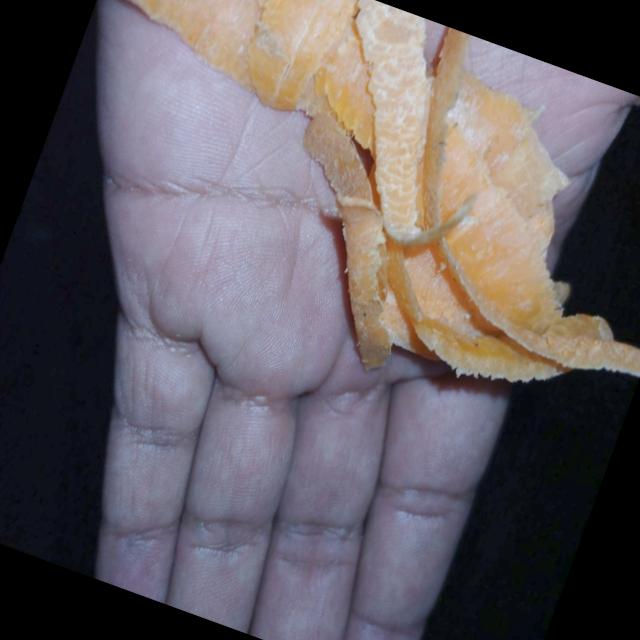organic: (10, 0, 640, 456)
